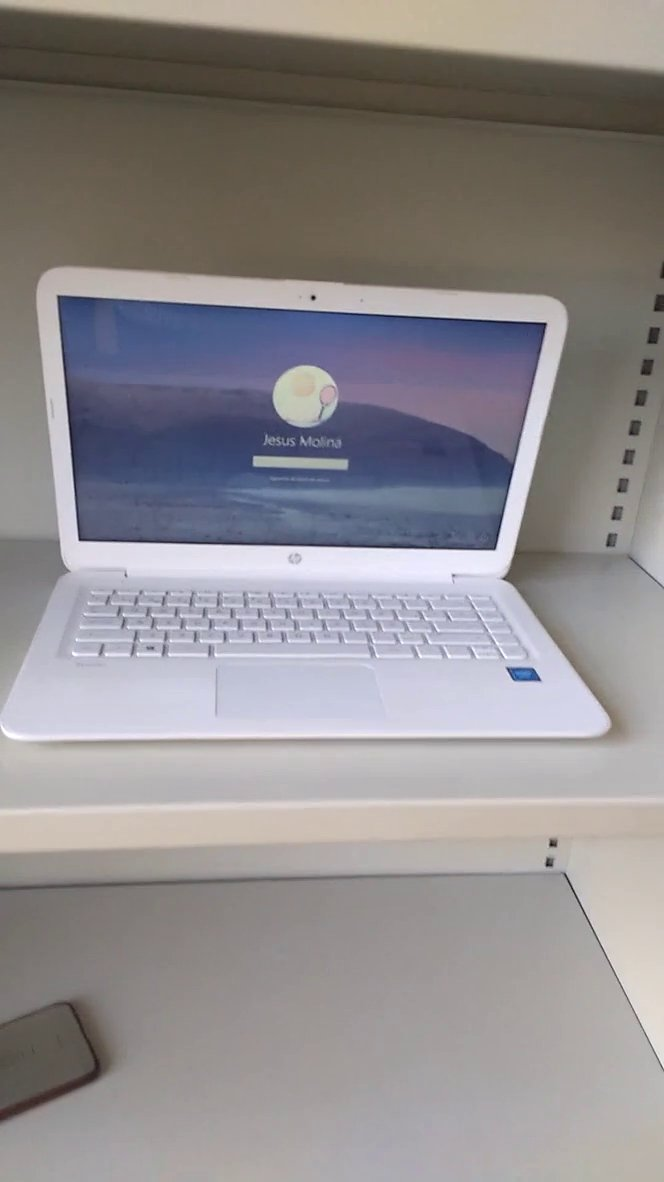laptop: (1, 222, 644, 781)
